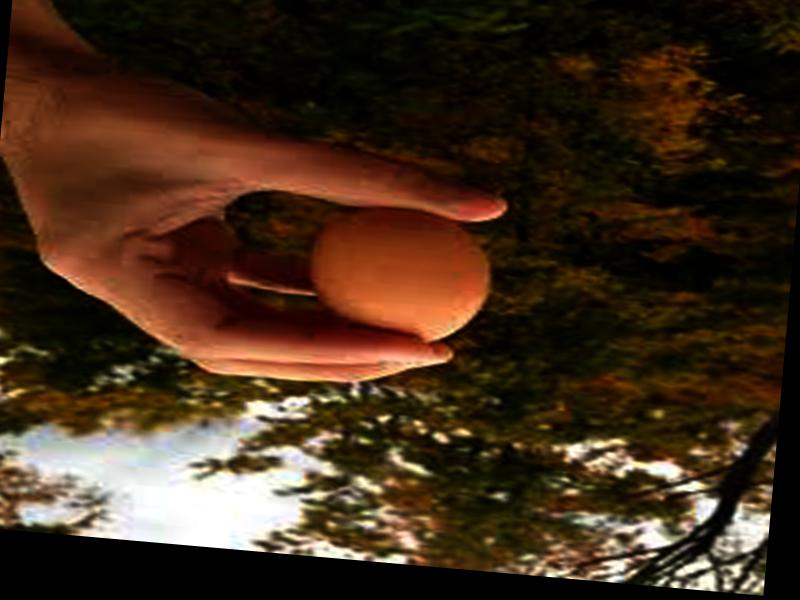Eggs: (306, 200, 494, 349)
